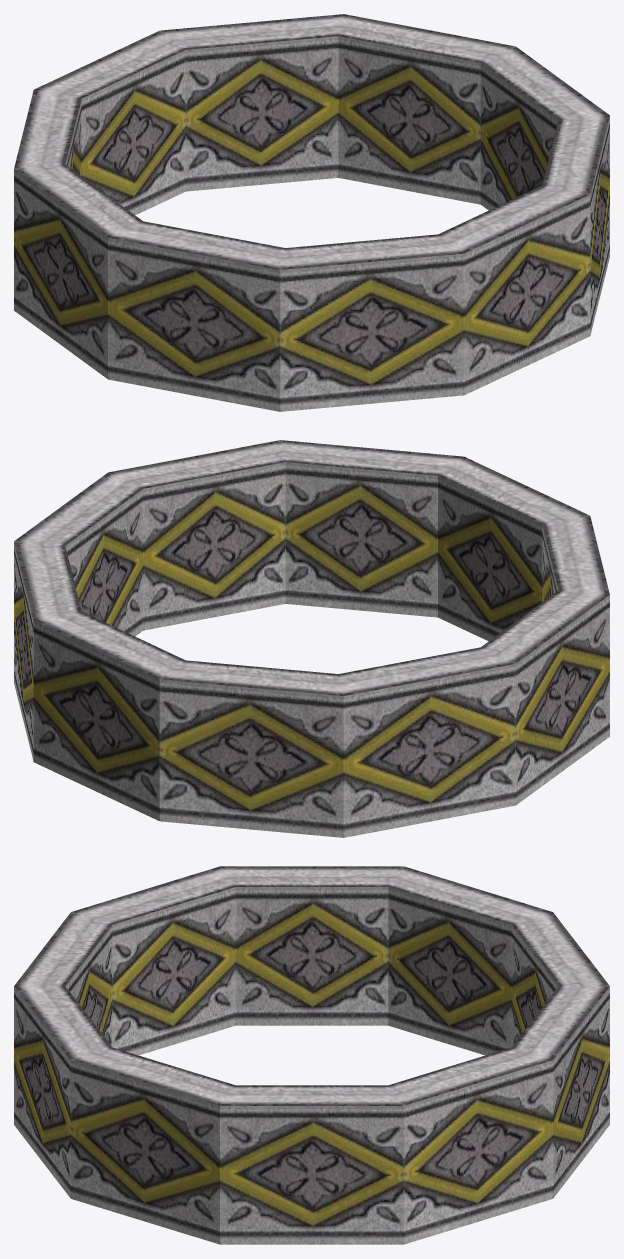
The model's file is ITRI_PROT_POINT_01.glb.
The picture shows the model from 3 angles, top to bottom: view 1: azimuth 30°, elevation 25°; view 2: azimuth 150°, elevation 25°; view 3: azimuth 270°, elevation 25°; orthographic projection. The views are drawn at different scales.
Parts seen in each view (by area): view 1: ITRI_PROT_POINT_01; view 2: ITRI_PROT_POINT_01; view 3: ITRI_PROT_POINT_01.
Boxes of the visible parts, box(x1,y1,x2,y2) form: ITRI_PROT_POINT_01: box(14, 14, 609, 411); ITRI_PROT_POINT_01: box(14, 440, 609, 837); ITRI_PROT_POINT_01: box(14, 866, 609, 1244).
Bounding box in the file's own units: 0.0624 × 0.0169 × 0.0657.
Materials: 1 (1 with a texture image).
